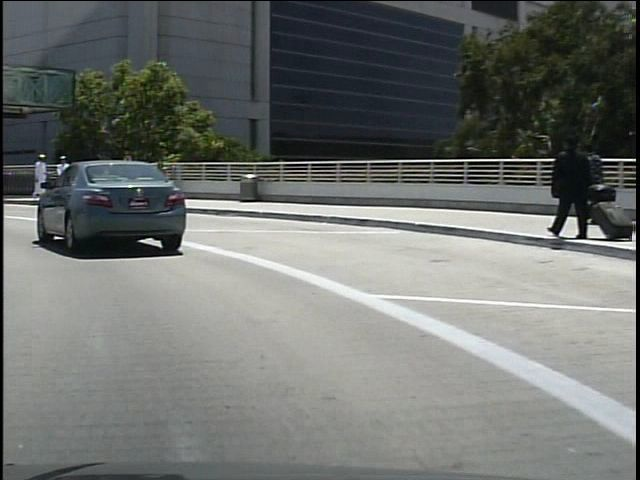person: (540, 135, 589, 242), (574, 141, 609, 233), (51, 152, 71, 201), (28, 149, 47, 196)
